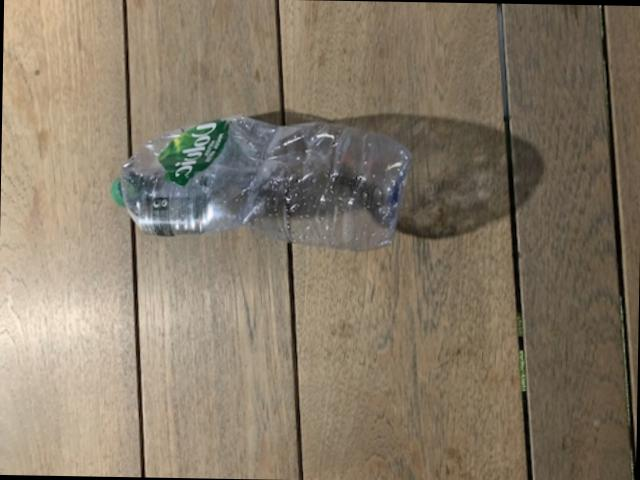plastic: (115, 115, 412, 247)
